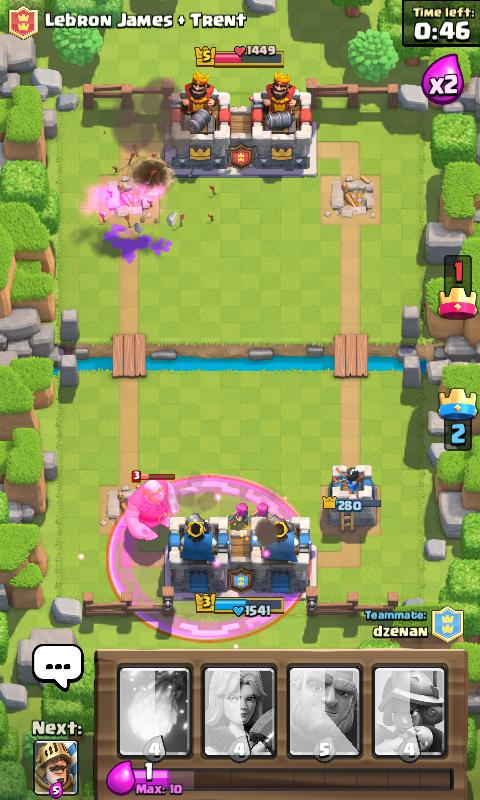ally_archer: (227, 502, 251, 526), (248, 502, 270, 522)
enemy_giant: (122, 469, 178, 541)
